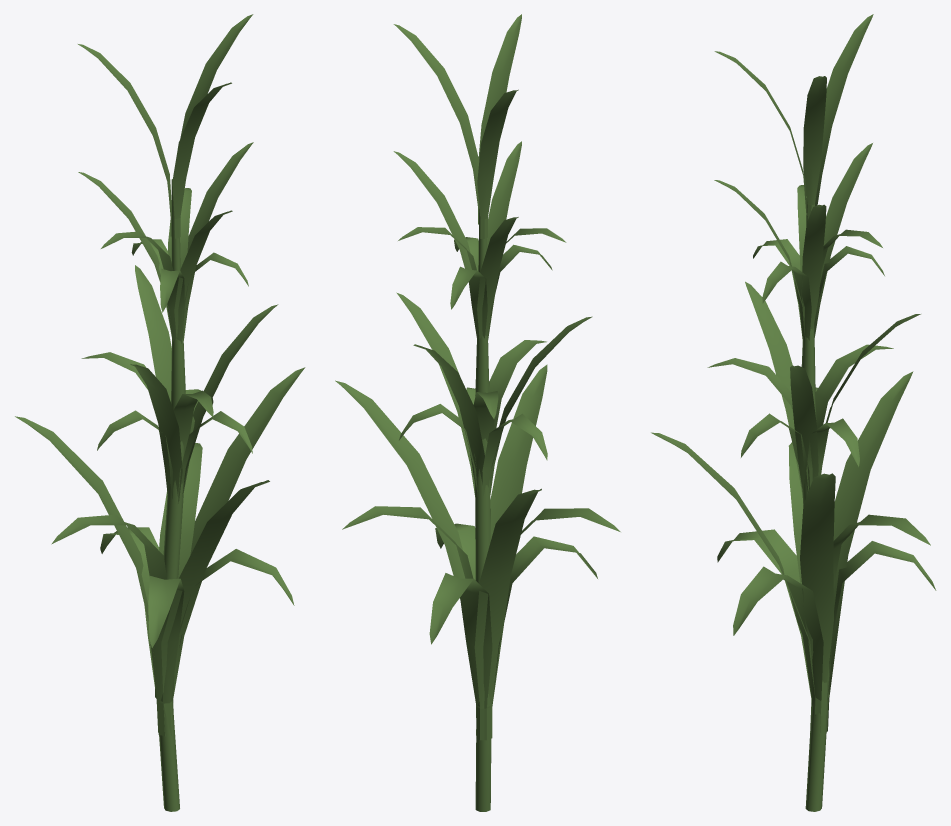
File: Grass_Kelp.fbx
3 renders of one model, left to right at view 1: azimuth 30°, elevation 25°; view 2: azimuth 150°, elevation 25°; view 3: azimuth 270°, elevation 25°, orthographic.
Parts seen in each view (by area): view 1: group34_pCylinder34; view 2: group34_pCylinder34; view 3: group34_pCylinder34.
Part boxes in pixels (x1,y1,x2,y2): group34_pCylinder34: [15, 14, 305, 811]; group34_pCylinder34: [335, 14, 620, 811]; group34_pCylinder34: [651, 14, 936, 811].
Bounding box in the file's own units: 1664 × 4512 × 1513.
